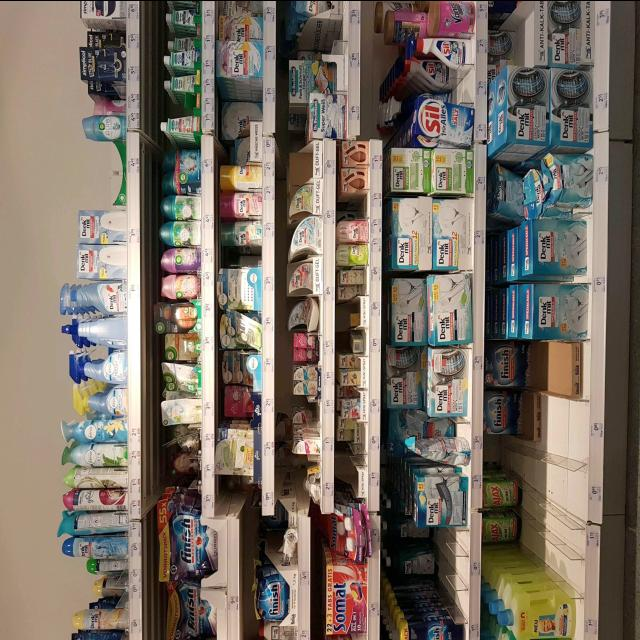empty_space: (517, 448, 581, 520), (530, 391, 588, 464), (523, 521, 575, 588), (521, 490, 573, 553), (86, 140, 126, 208), (532, 347, 573, 394), (440, 72, 474, 94), (337, 465, 359, 491)
